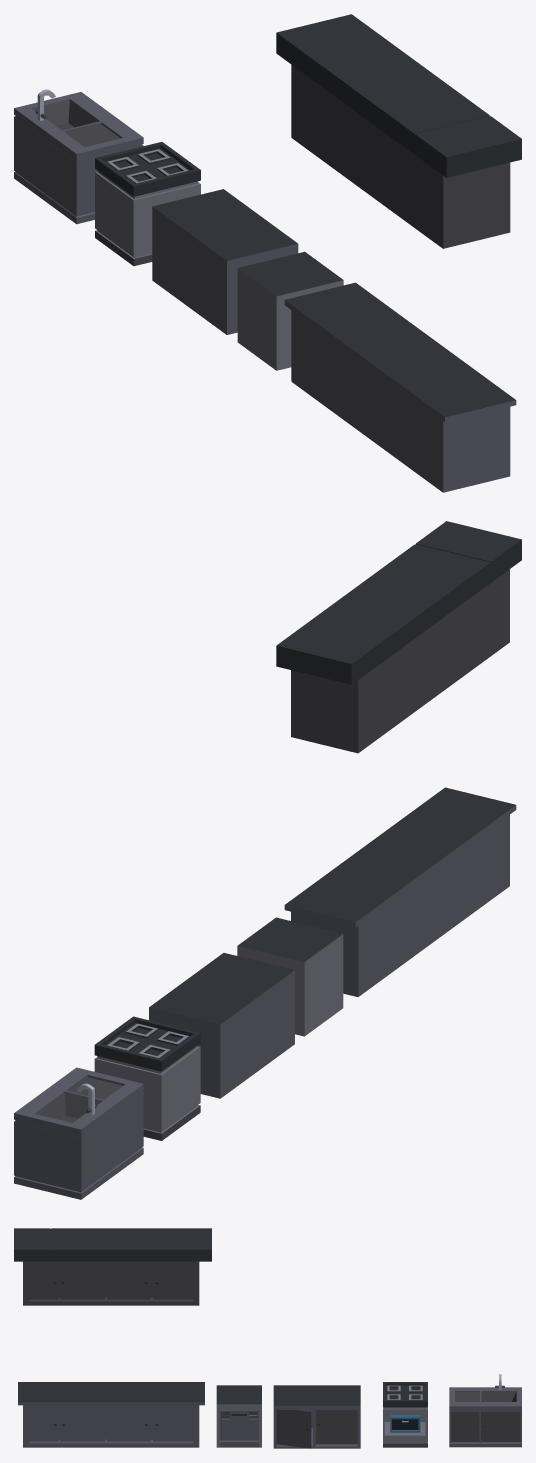
File: Kitchen_2.fbx
3 views of the same model, one above another, from view 1: azimuth 30°, elevation 25°; view 2: azimuth 150°, elevation 25°; view 3: azimuth 270°, elevation 25° (orthographic). The views are drawn at different scales.
Visible parts, largest first — view 1: Cube.005, Cube, Cube.002, Cube.004, Cube.003, Cube.001; view 2: Cube.005, Cube, Cube.004, Cube.002, Cube.003, Cube.001; view 3: Cube.005, Cube, Cube.002, Cube.004, Cube.003, Cube.001.
Boxes of the visible parts, x1,y1,x2,y2 form: Cube.005: (276, 14, 521, 248); Cube: (284, 282, 516, 492); Cube.002: (152, 189, 298, 334); Cube.004: (14, 89, 143, 224); Cube.003: (95, 142, 200, 266); Cube.001: (237, 251, 343, 370); Cube.005: (276, 521, 521, 753); Cube: (284, 787, 516, 996); Cube.004: (14, 1067, 143, 1199); Cube.002: (149, 953, 294, 1098); Cube.003: (94, 1016, 200, 1140); Cube.001: (237, 917, 343, 1036); Cube.005: (14, 1228, 211, 1305); Cube: (18, 1382, 204, 1447); Cube.002: (273, 1385, 360, 1448); Cube.004: (449, 1374, 521, 1447); Cube.003: (383, 1382, 427, 1447); Cube.001: (216, 1385, 261, 1447).
Size of the model in its own units: 245 by 974 by 2251.
